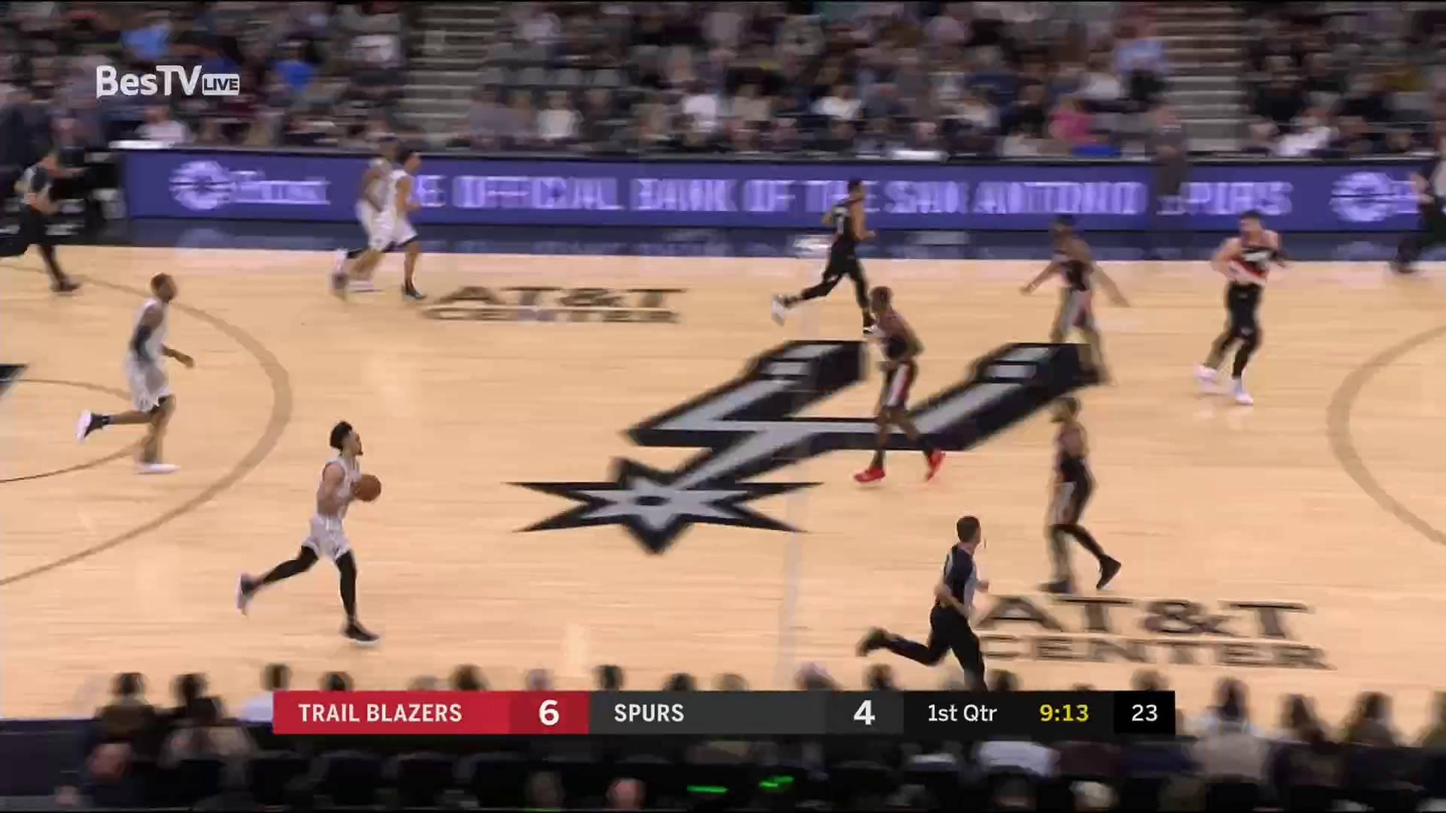basketball: (354, 474, 383, 504)
